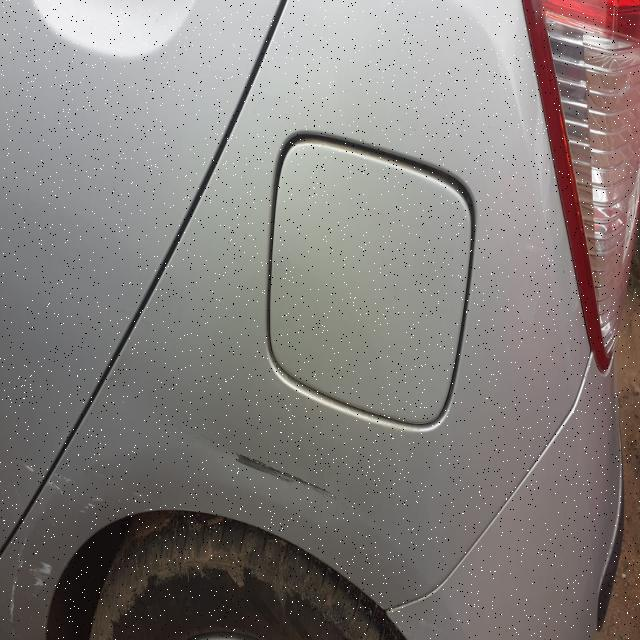quaterpanel-dent: (94, 357, 464, 640), (45, 471, 303, 639)
